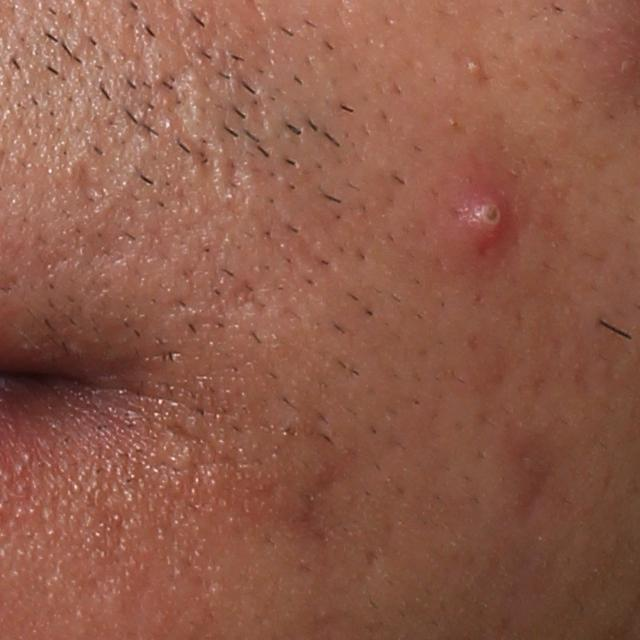atrophic_scar: (497, 417, 576, 534), (151, 60, 216, 177), (291, 463, 361, 548), (92, 216, 160, 277), (70, 156, 110, 210), (230, 273, 264, 323)
pustule: (463, 186, 520, 248)
